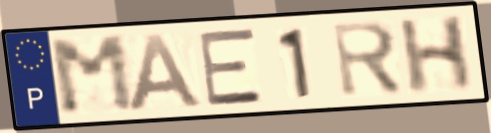1: (275, 25, 313, 101)
A: (126, 32, 208, 114)
E: (195, 26, 267, 109)
H: (396, 12, 475, 97)
M: (45, 32, 142, 119)
R: (329, 18, 407, 101)
